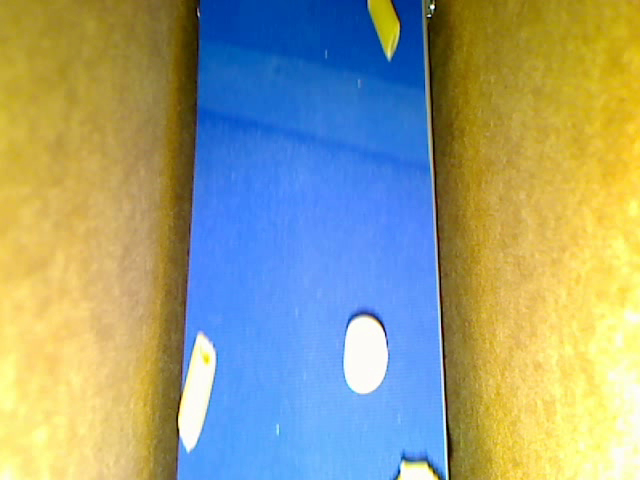penne: (177, 329, 218, 451), (368, 1, 400, 63)
